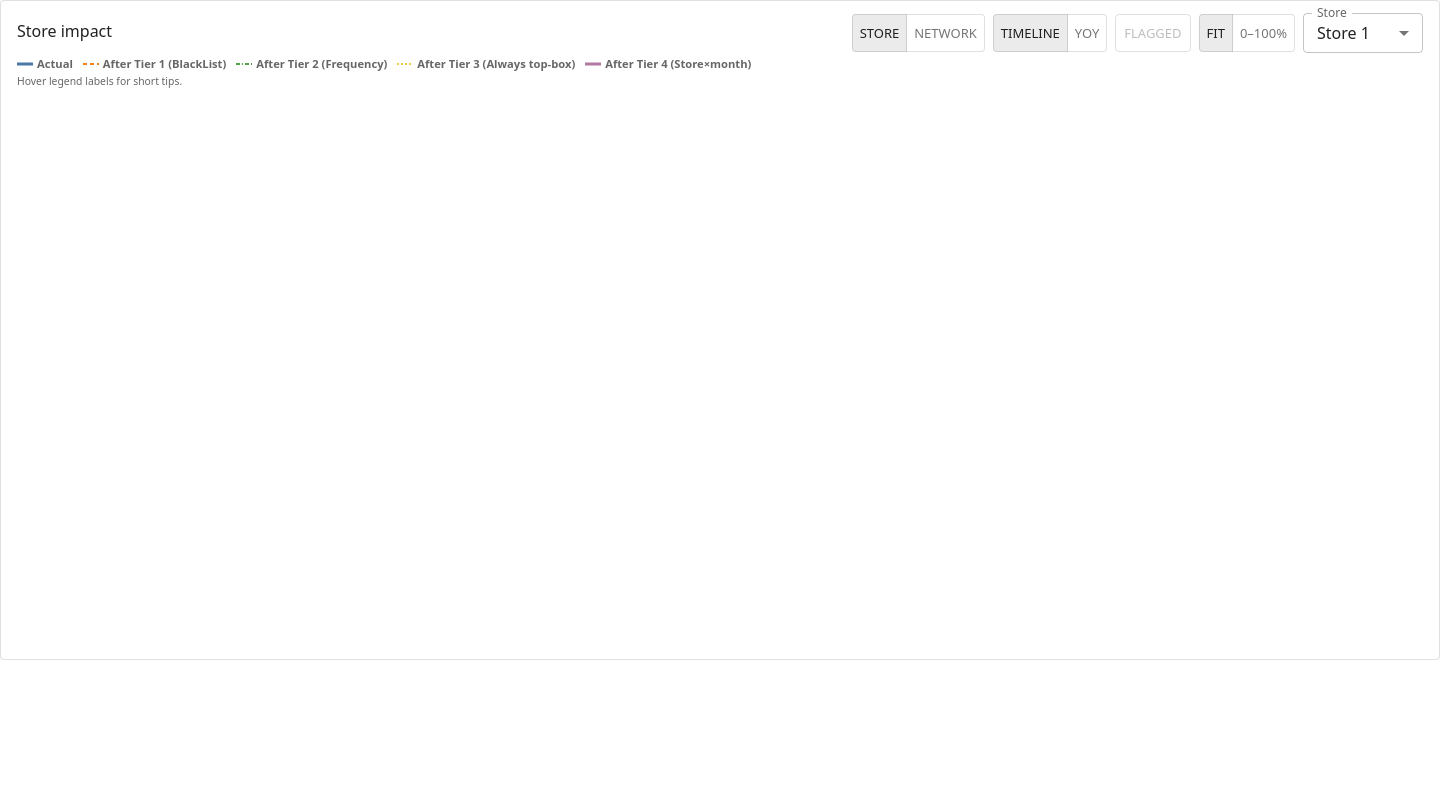
Test: StoreImpactChart › toggles Timeline ↔ YoY time mode
Click the button with aria-label "Year over year mode" at (1087, 33), box [1067, 14, 1107, 52]
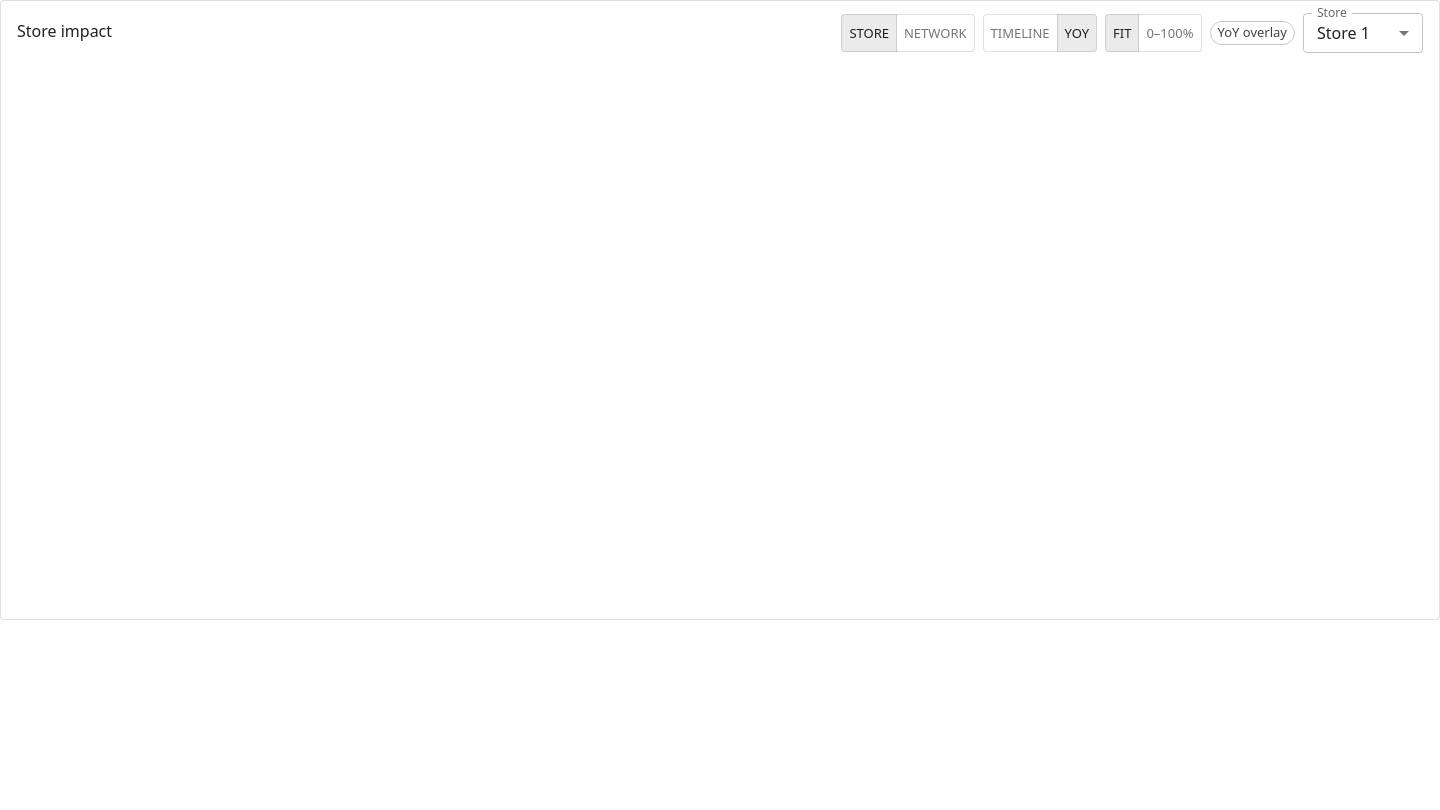
Expected: the text "YoY overlay" is shown, [1218, 23, 1287, 41]
Expected: the element with test id "store-impact-legend" is gone
Click the button with aria-label "Timeline mode" at (1020, 33), box [983, 14, 1058, 52]
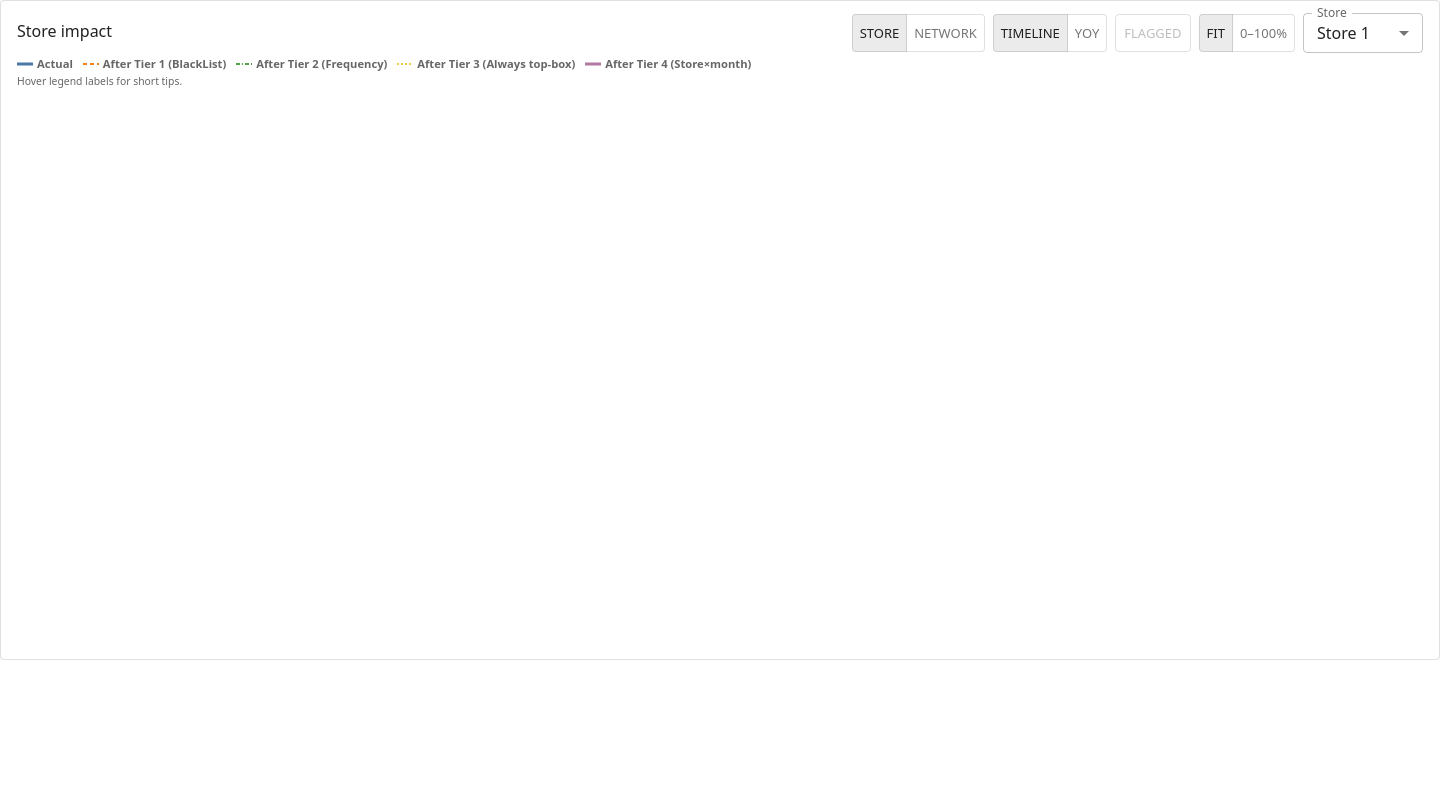
Expected: the text "YoY overlay" is gone
Expected: the element with test id "store-impact-legend" is shown, [17, 56, 751, 71]
